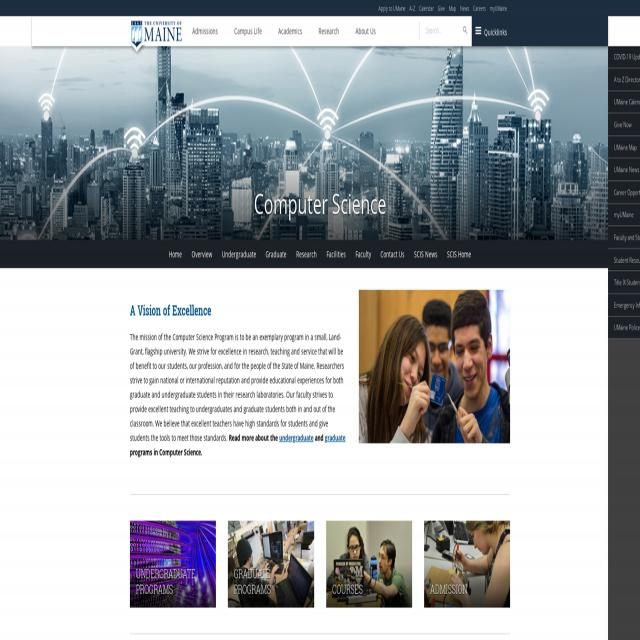button: (358, 290, 509, 443), (130, 526, 216, 602), (228, 526, 314, 602), (326, 526, 412, 602), (424, 526, 510, 602), (131, 20, 182, 48), (227, 16, 269, 47), (184, 16, 225, 47), (270, 16, 310, 47), (217, 240, 261, 268), (472, 16, 510, 47), (311, 16, 347, 47), (348, 16, 383, 47), (442, 240, 476, 268), (376, 240, 409, 268), (410, 240, 442, 268), (291, 240, 322, 268), (187, 240, 217, 268), (261, 240, 291, 268), (322, 240, 351, 268), (350, 240, 376, 268), (162, 240, 185, 268), (461, 25, 470, 36)
field: (424, 22, 460, 40)
